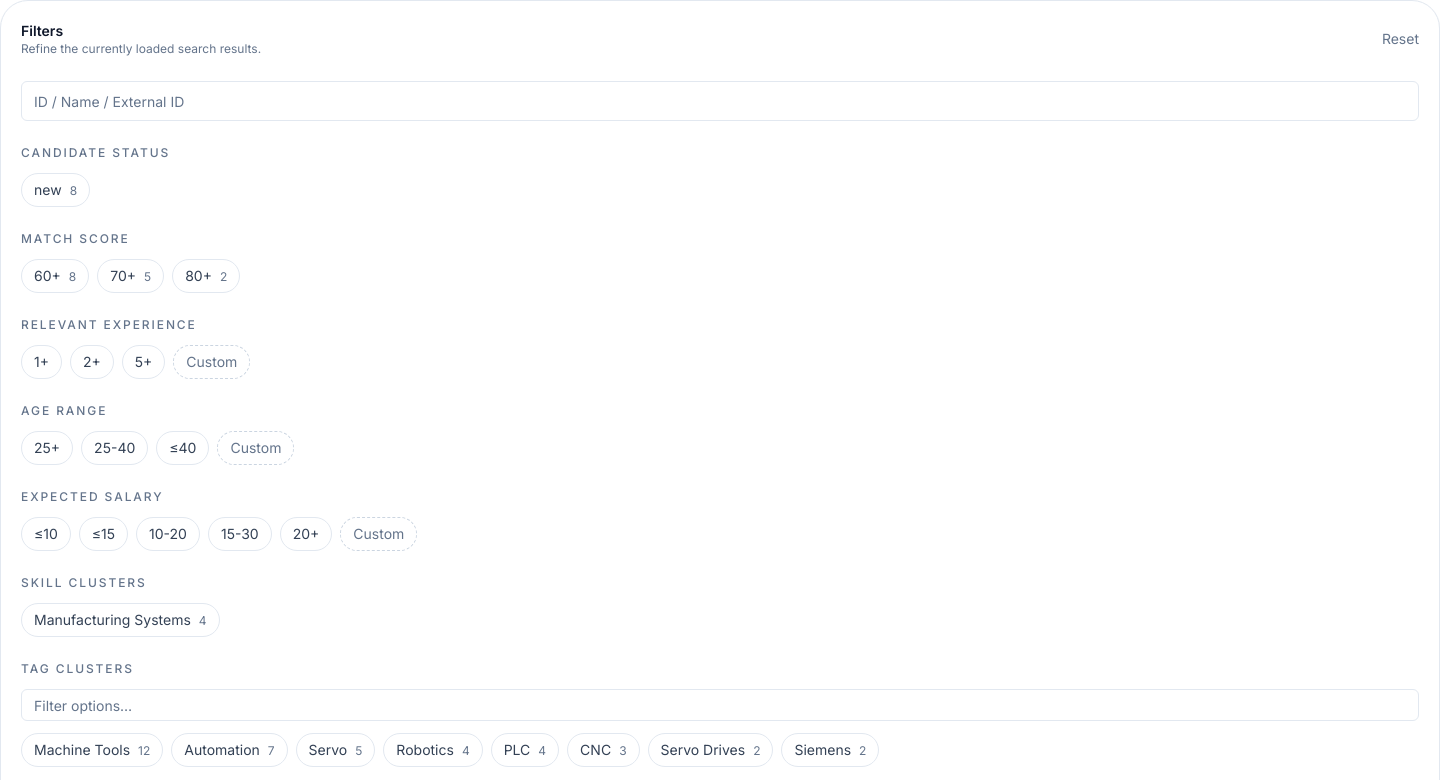
Test: filterable facet groups (R1) › filters tag options by case-insensitive text
expect the button "Machine Tools12" is shown: met, box [21, 733, 163, 767]
Step 1. Type "cnc" into the field with placeholder "Filter options…" → [720, 705], box [21, 689, 1419, 721]
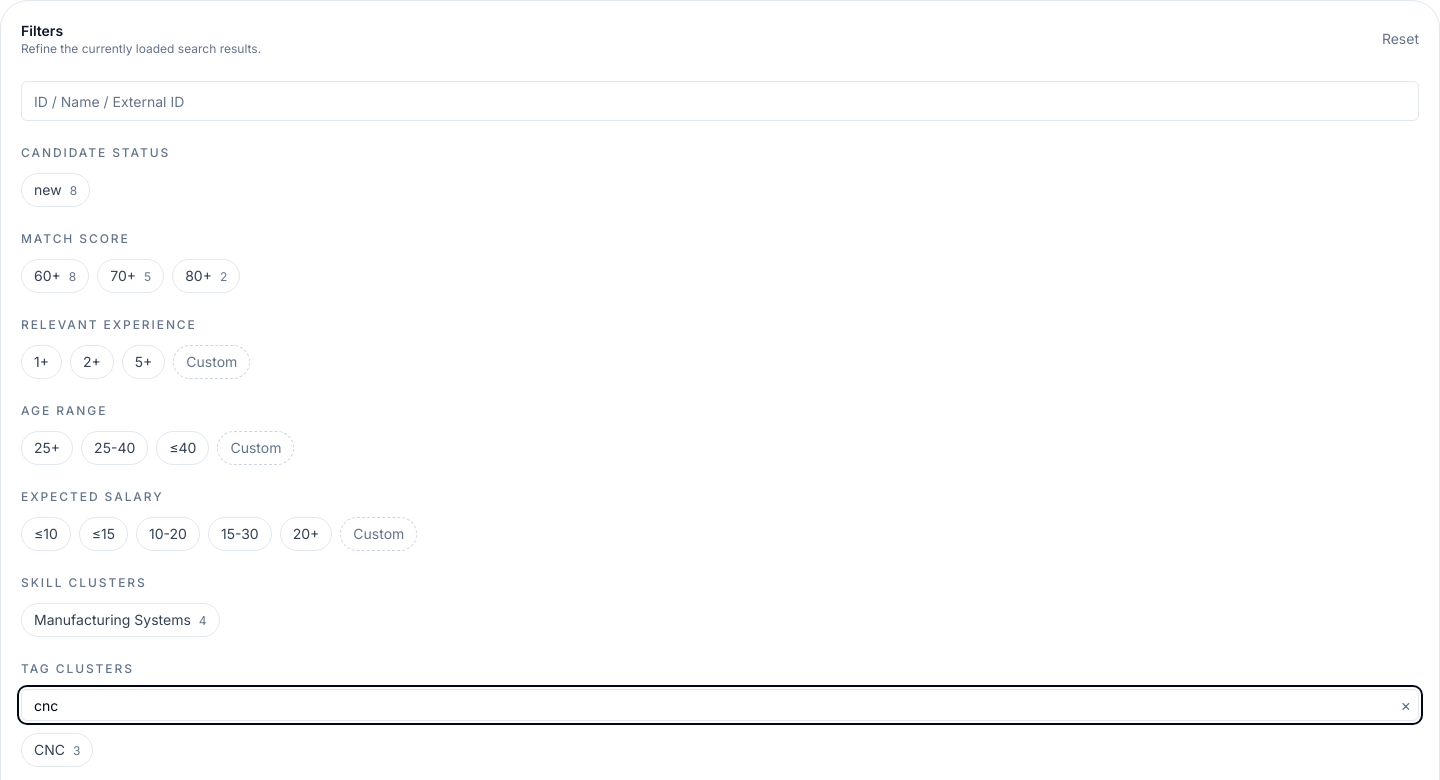
expect the button "CNC3" is shown: met, box [21, 733, 93, 767]
expect the button "Machine Tools" is gone: met
